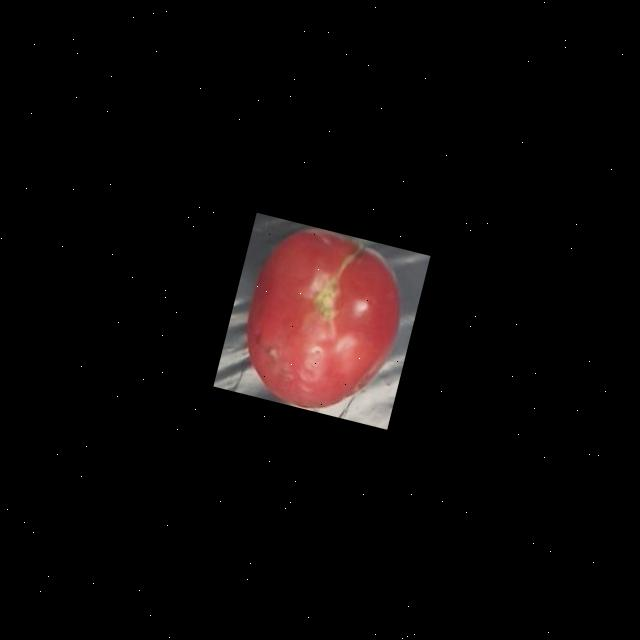tomato: (223, 215, 418, 426)
